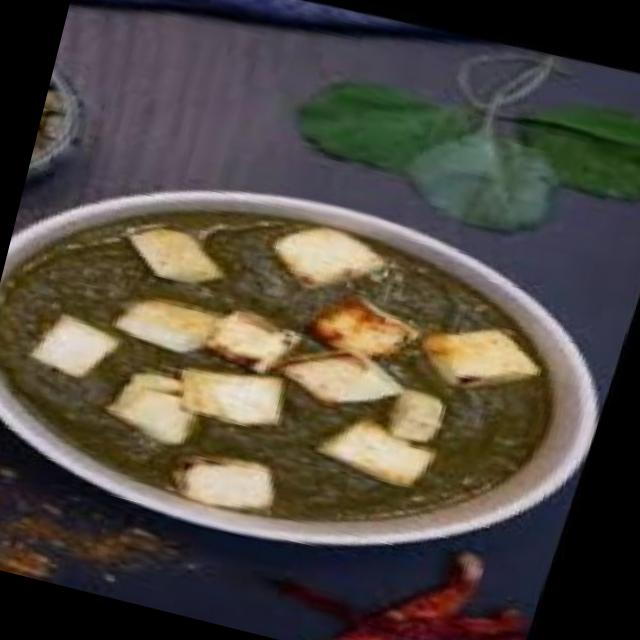palak_paneer: (0, 142, 599, 586)
